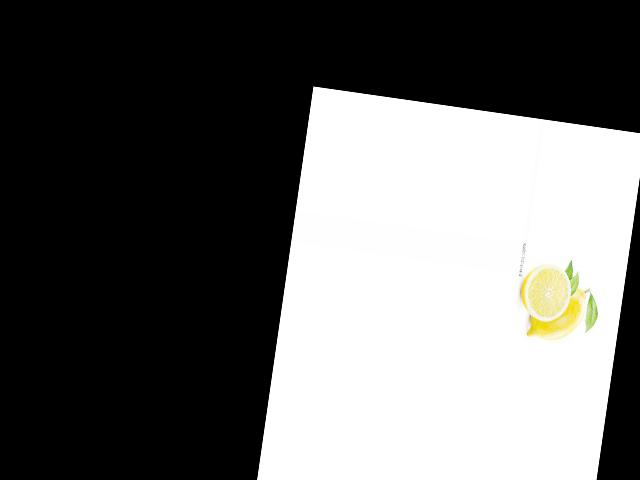lemon: (518, 272, 595, 352)
